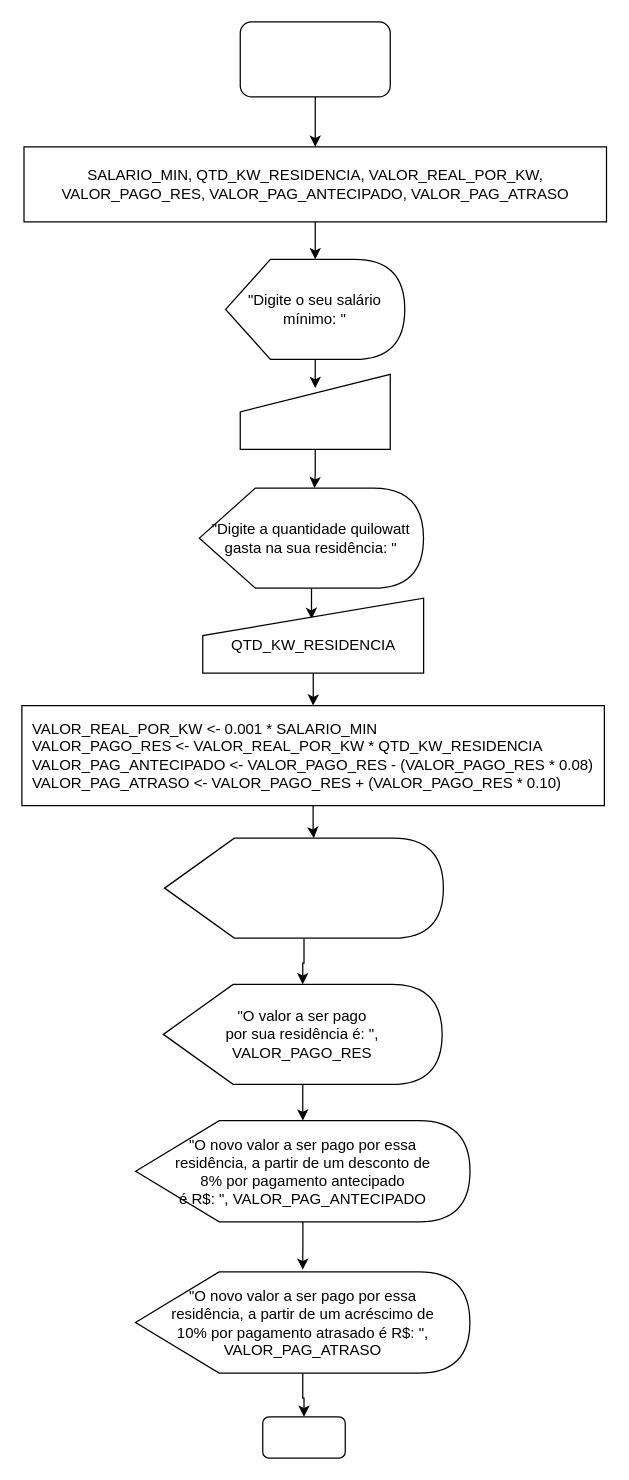
Image size: 629x1480. Some labels were removed from this diagram. The shapes that lost their labels are listed below. From the top down, each one's centre as x and y in pixels, then its label:
[314,59]: INICIO
[314,411]: SALARIO_MIN
[303,887]: "O valor em reais de cada KW é R$: ", VALOR_REAL_POR_KW
[303,1437]: FIM
